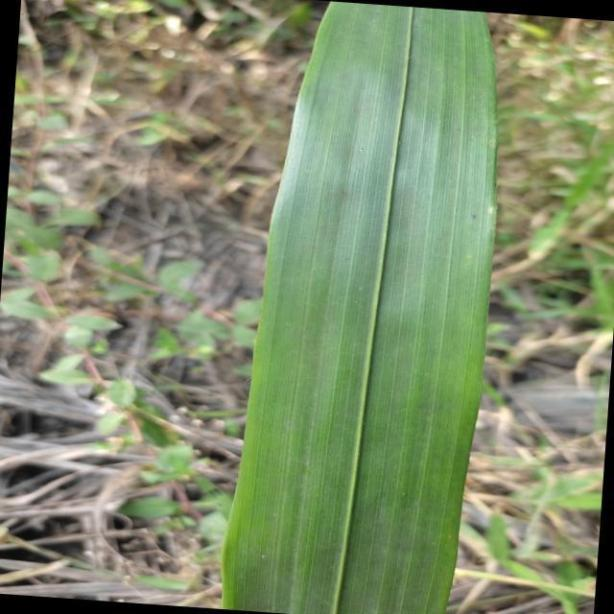Healthy: (219, 0, 501, 614)
